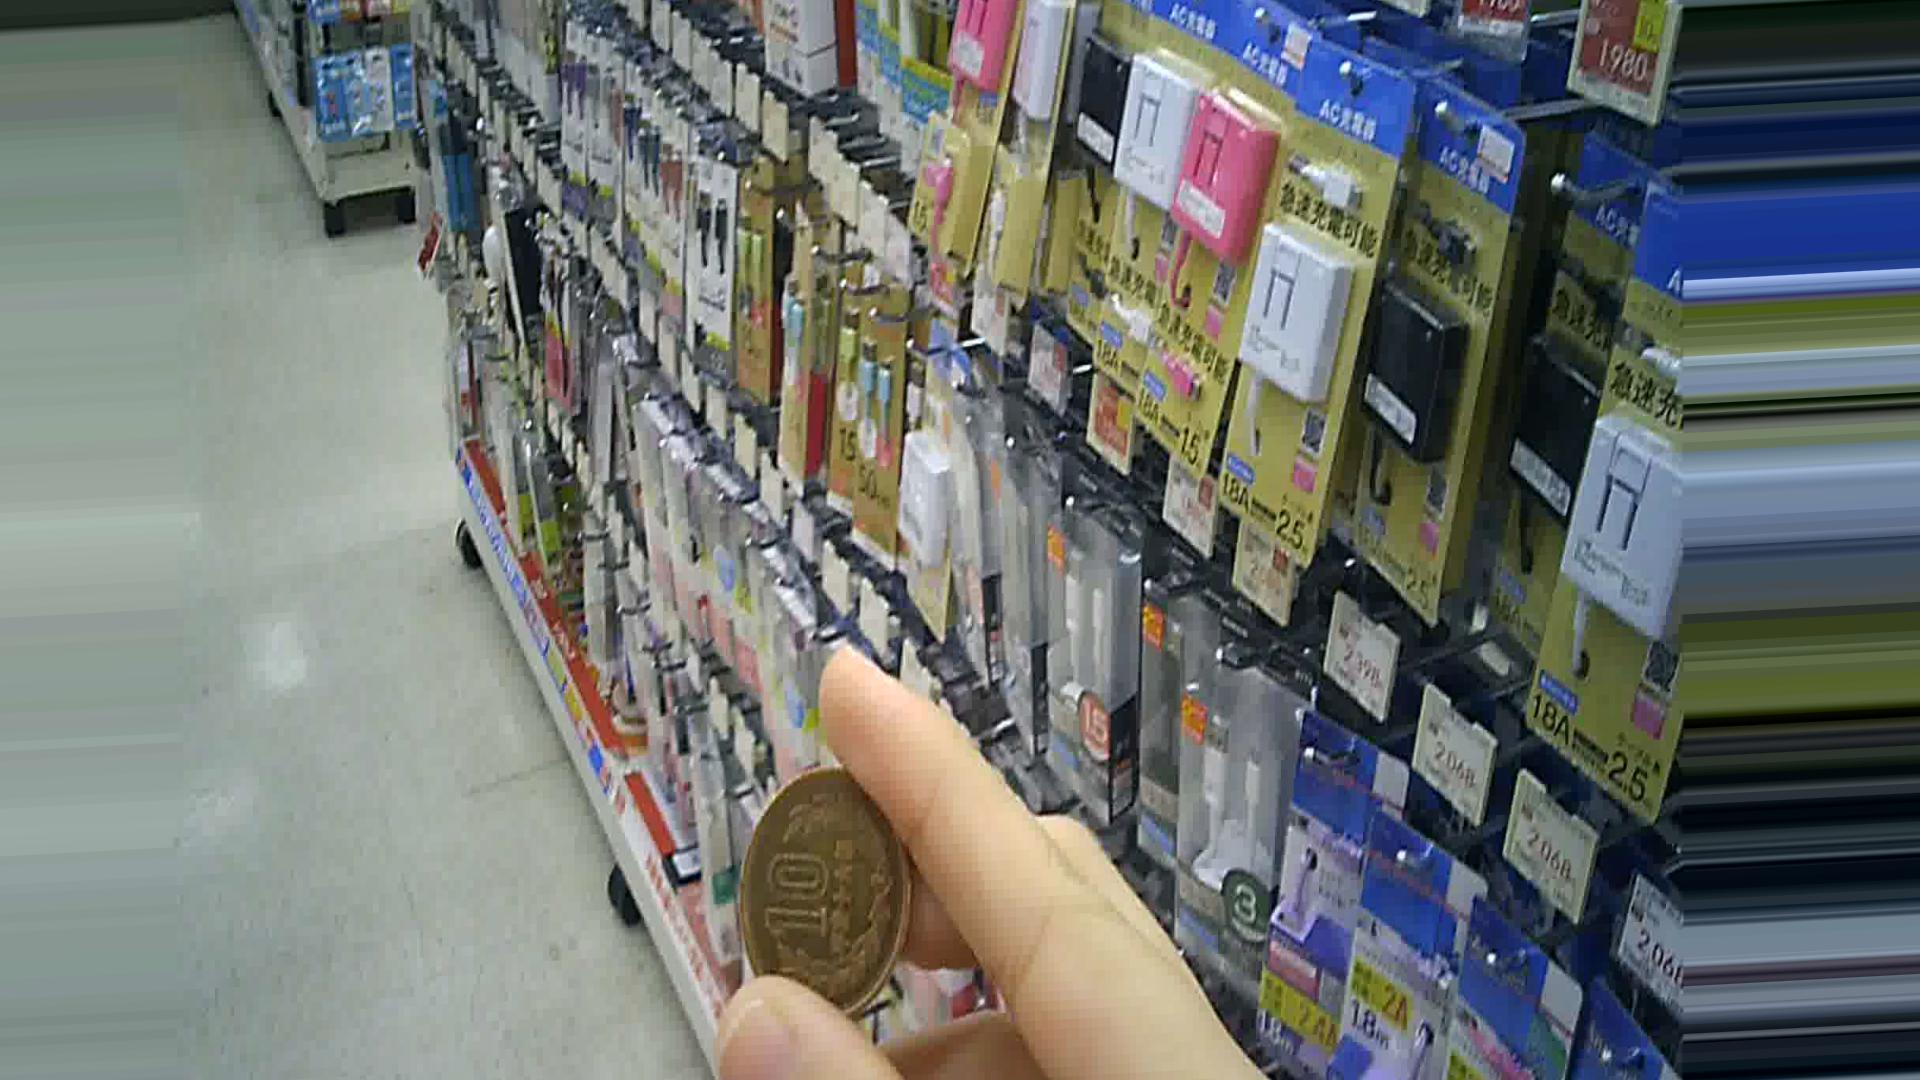10 Yen: (727, 762, 909, 1011)
